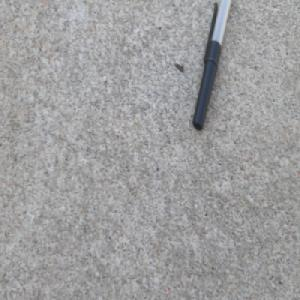Pen: (192, 0, 235, 132)
